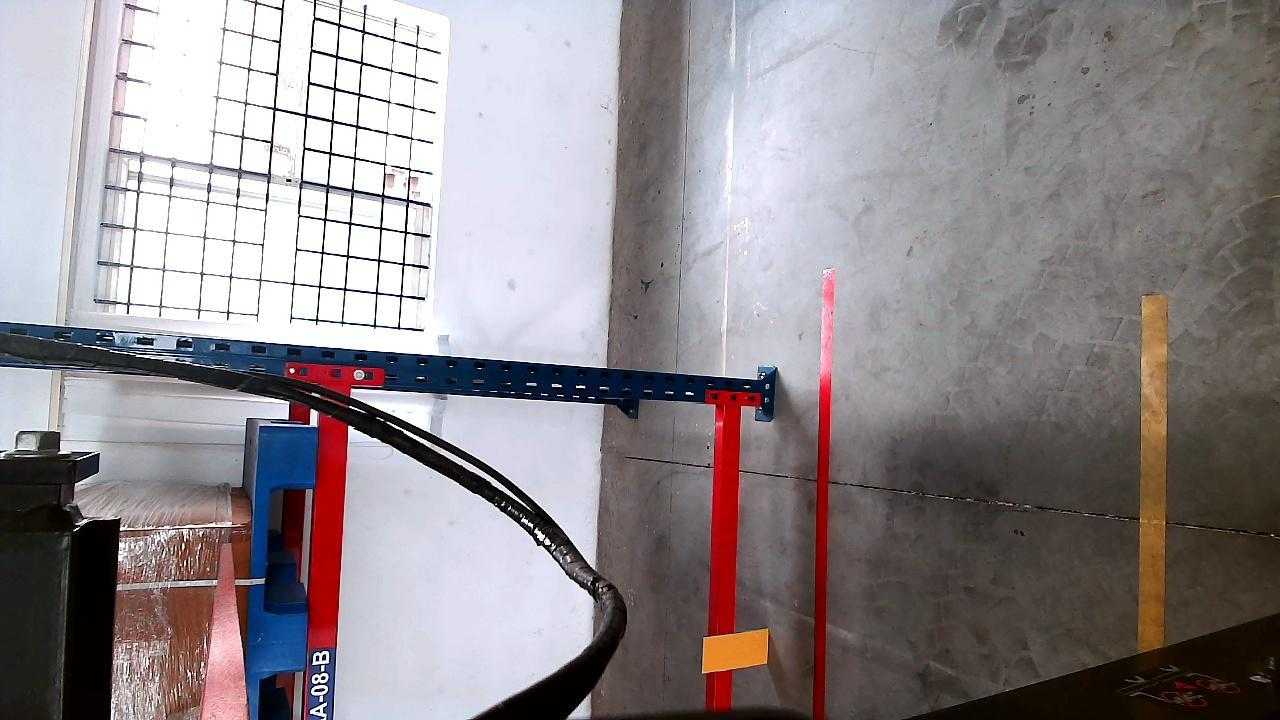red_line: (810, 266, 835, 720)
yellow_line: (1141, 294, 1169, 648)
